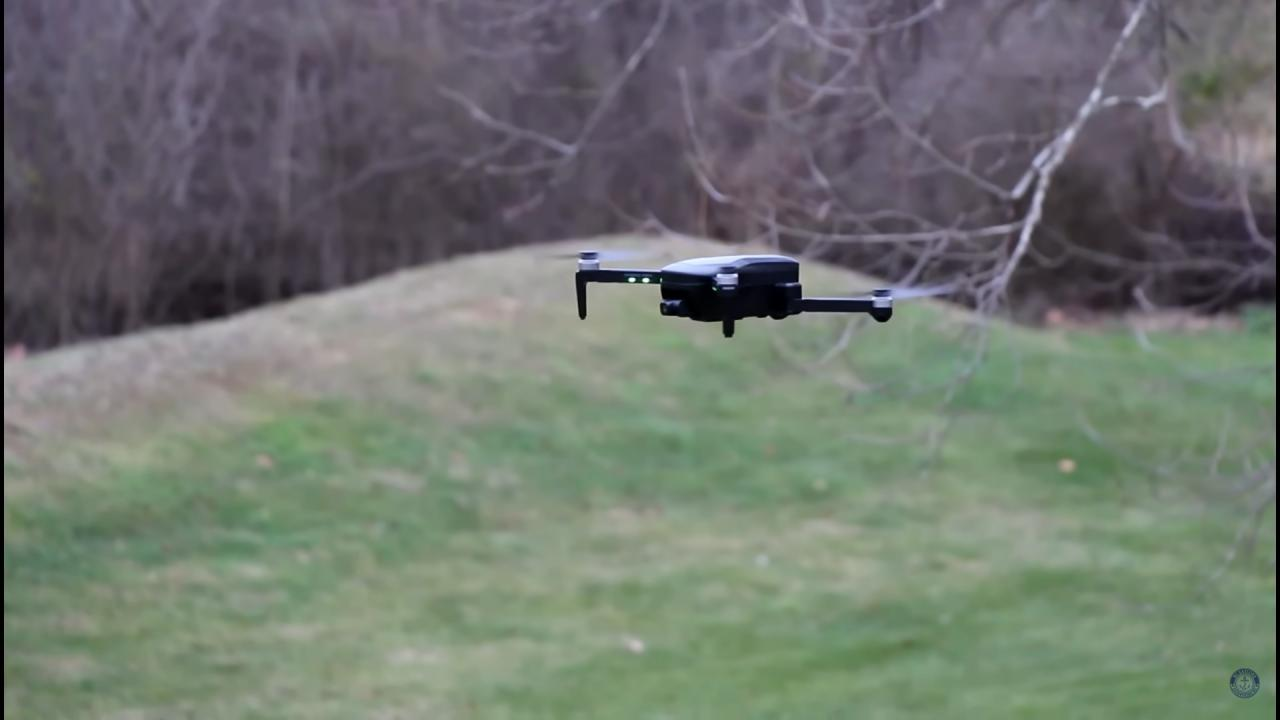Drone: (507, 242, 990, 352)
